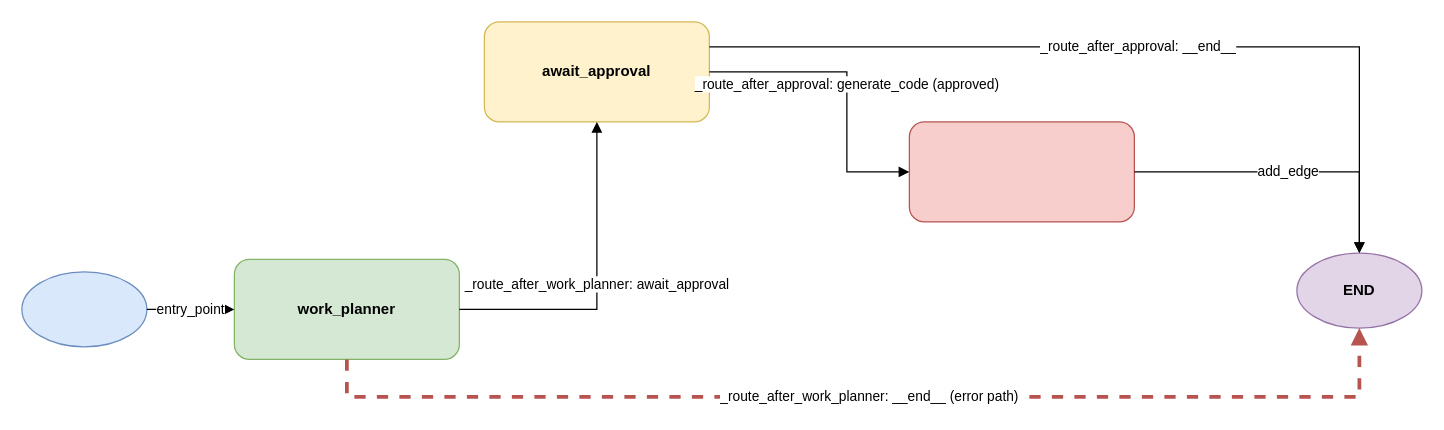
The diagram is 1444 pixels wide and 430 high, and some of its shapes have lost their labels. The shapes that lost their labels are listed below. From the top down, each one's centre as x and y in pixels, then its label:
At (x=1021, y=171): "generate_code".
At (x=84, y=309): "START".
